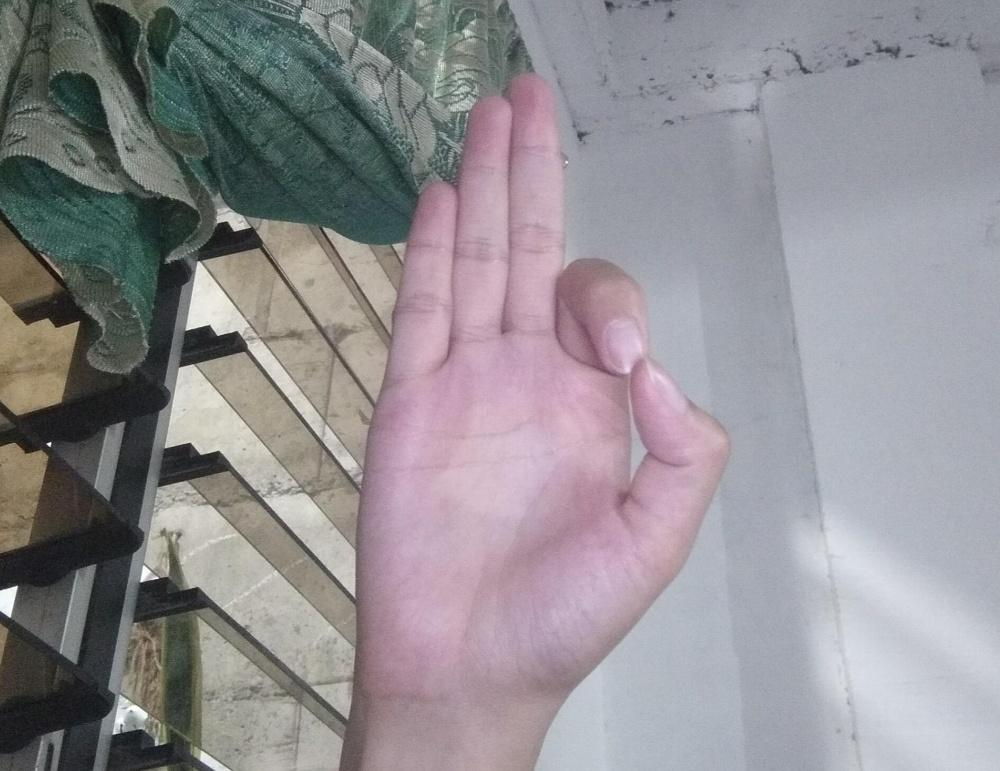f: (353, 69, 733, 719)
